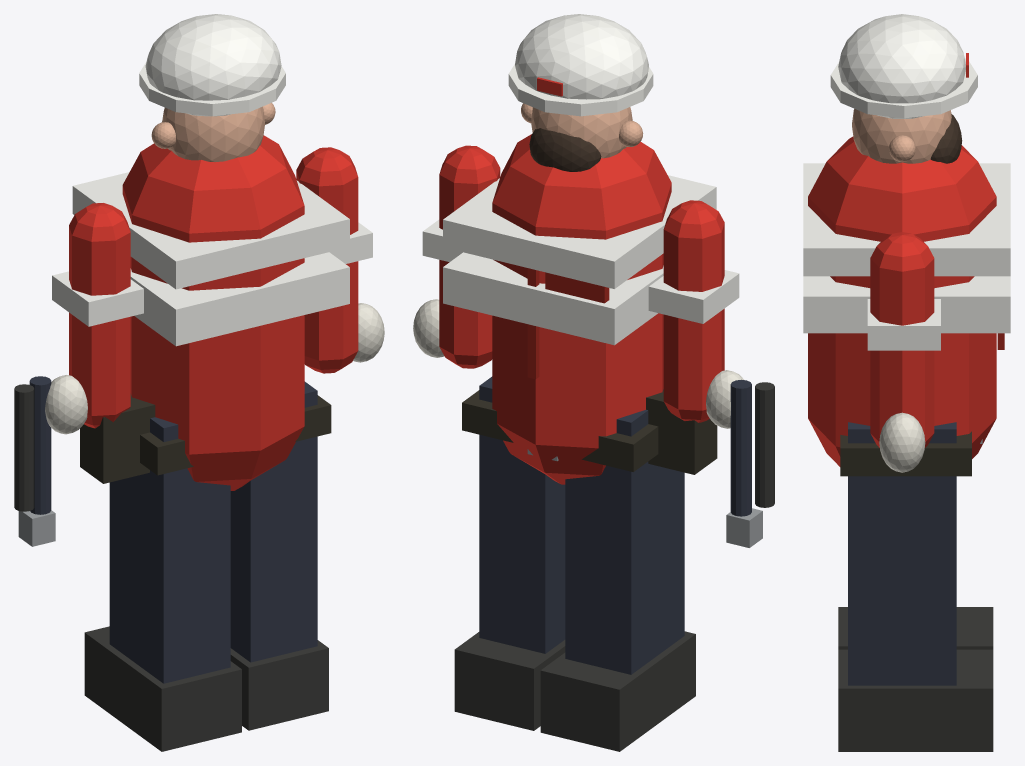
File: Chilquinta_Operador_VR.glb
The picture shows the model from 3 angles, left to right: view 1: azimuth 30°, elevation 25°; view 2: azimuth 150°, elevation 25°; view 3: azimuth 270°, elevation 25°; orthographic projection.
Parts seen in each view (by area): view 1: Torso, Pierna_Izquierda, Pierna_Derecha, Bota_Izquierda, Banda_Reflectante_Torso2, Brazo_Izquierdo, Banda_Reflectante_Torso, Casco, Brazo_Derecho, Bota_Derecha, PortaHerramientas, Head (+9 smaller); view 2: Torso, Pierna_Izquierda, Pierna_Derecha, Bota_Izquierda, Banda_Reflectante_Torso2, Brazo_Izquierdo, Banda_Reflectante_Torso, Casco, Bota_Derecha, Brazo_Derecho, PortaHerramientas, Cinturon (+12 smaller); view 3: Torso, Pierna_Derecha, Bota_Derecha, Brazo_Derecho, Casco, Banda_Reflectante_Torso2, Banda_Reflectante_Torso, Cinturon, Head, Ala_Casco, Banda_Reflectante_Brazo_D, Mano_Derecha (+3 smaller).
Part boxes in pixels (box(x1,y1,x2,y2)): Torso: box(122, 135, 304, 490); Pierna_Izquierda: box(109, 417, 230, 683); Pierna_Derecha: box(230, 381, 317, 662); Bota_Izquierda: box(84, 626, 241, 751); Banda_Reflectante_Torso2: box(72, 172, 349, 289); Brazo_Izquierdo: box(69, 203, 130, 428); Banda_Reflectante_Torso: box(130, 252, 349, 346); Casco: box(145, 14, 281, 116); Brazo_Derecho: box(296, 147, 358, 373); Bota_Derecha: box(230, 640, 328, 730); PortaHerramientas: box(80, 393, 155, 483); Head: box(162, 106, 264, 161); Torso: box(492, 134, 671, 484); Pierna_Izquierda: box(565, 409, 684, 674); Pierna_Derecha: box(479, 376, 565, 653); Bota_Izquierda: box(540, 631, 695, 751); Banda_Reflectante_Torso2: box(443, 175, 716, 288); Brazo_Izquierdo: box(663, 200, 724, 422); Banda_Reflectante_Torso: box(443, 252, 663, 345); Casco: box(515, 14, 648, 99); Bota_Derecha: box(454, 632, 565, 730); Brazo_Derecho: box(439, 145, 500, 368); PortaHerramientas: box(646, 389, 717, 474); Cinturon: box(462, 390, 658, 471); Torso: box(808, 136, 996, 466); Pierna_Derecha: box(848, 422, 956, 685); Bota_Derecha: box(838, 649, 993, 751); Brazo_Derecho: box(870, 232, 934, 447); Casco: box(838, 14, 965, 118); Banda_Reflectante_Torso2: box(803, 163, 1010, 276); Banda_Reflectante_Torso: box(803, 276, 1010, 333); Cinturon: box(840, 431, 971, 476); Head: box(852, 109, 951, 163); Ala_Casco: box(830, 58, 977, 118); Banda_Reflectante_Brazo_D: box(867, 299, 940, 350); Mano_Derecha: box(879, 412, 925, 472).
Bounding box in the file's own units: 1.09 × 1.96 × 0.535.
